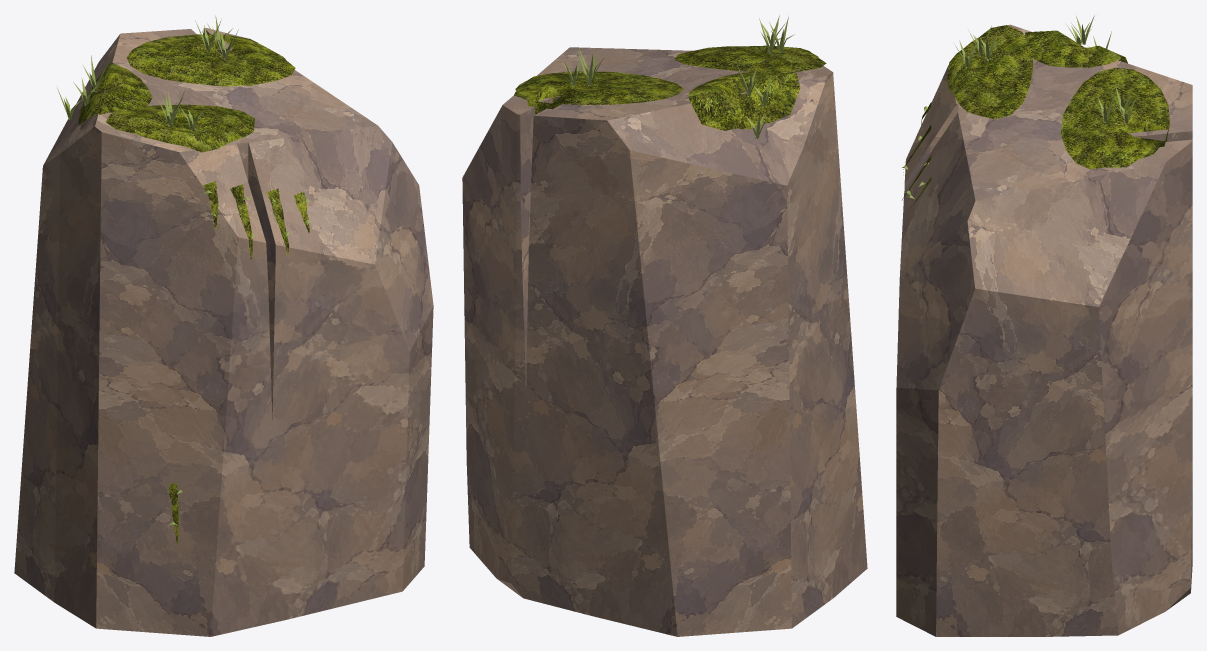
The model's file is cliff.glb.
3 renders of one model, left to right at view 1: azimuth 30°, elevation 25°; view 2: azimuth 150°, elevation 25°; view 3: azimuth 270°, elevation 25°, orthographic. The views are drawn at different scales.
Visible parts, largest first — view 1: cliff__stone, cliff__moss, cliff__plants; view 2: cliff__stone, cliff__moss, cliff__plants; view 3: cliff__stone, cliff__moss, cliff__plants.
Boxes of the visible parts, x1,y1,x2,y2 form: cliff__stone: (14, 28, 433, 636); cliff__moss: (78, 34, 309, 543); cliff__plants: (57, 15, 310, 525); cliff__stone: (462, 47, 867, 636); cliff__moss: (514, 45, 826, 130); cliff__plants: (562, 15, 794, 139); cliff__stone: (896, 24, 1192, 636); cliff__moss: (902, 25, 1169, 207); cliff__plants: (902, 15, 1137, 198).
Size of the model in its own units: 2.83 by 4.21 by 2.25.
Materials: 3 (2 with a texture image).
